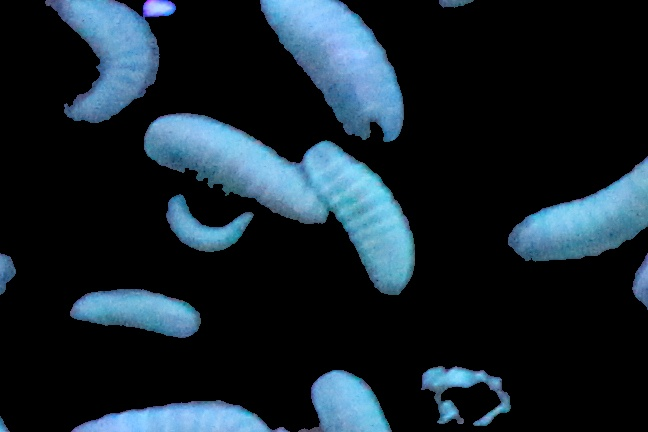larvae: (247, 1, 408, 150), (141, 113, 328, 224), (301, 141, 415, 296), (506, 153, 648, 264), (44, 1, 160, 122), (69, 289, 208, 340), (66, 398, 272, 432), (305, 367, 394, 432), (161, 196, 255, 254)
